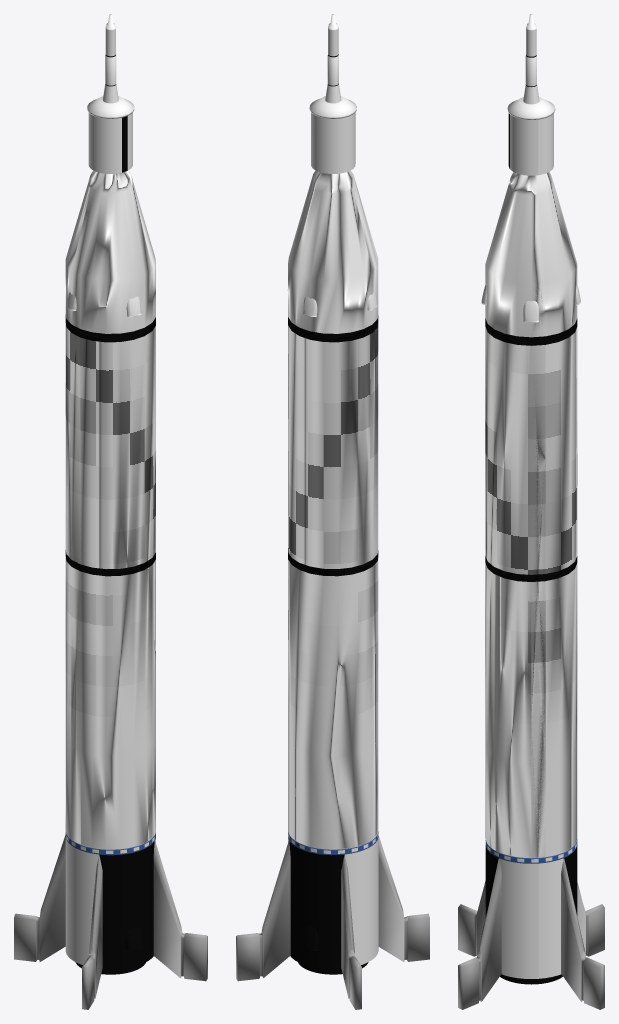
The model's file is rocket-jupiter-c.glb.
3 views of the same model, side by side, from view 1: azimuth 30°, elevation 25°; view 2: azimuth 150°, elevation 25°; view 3: azimuth 270°, elevation 25° (orthographic).
Visible parts, largest first — view 1: pCylinder1, jupiterc_9, jupiterc_8, pCube3 jup, pCylinder2, jupiterc_7, pCylinder3; view 2: pCylinder1, jupiterc_9, jupiterc_2, jupiterc_7, pCylinder2, pCube3 jup, pCylinder3; view 3: pCylinder1, jupiterc_9, pCylinder2, jupiterc_2, jupiterc_8, jupiterc_7, pCube3 jup, pCylinder3.
Boxes of the visible parts, x1,y1,x2,y2 form: pCylinder1: [65, 170, 155, 849]; jupiterc_9: [65, 830, 155, 969]; jupiterc_8: [153, 841, 207, 981]; pCube3 jup: [14, 835, 65, 961]; pCylinder2: [87, 96, 134, 173]; jupiterc_7: [82, 855, 102, 1009]; pCylinder3: [102, 14, 118, 103]; pCylinder1: [288, 170, 378, 849]; jupiterc_9: [288, 829, 378, 969]; jupiterc_2: [236, 841, 290, 981]; jupiterc_7: [378, 836, 429, 961]; pCylinder2: [309, 96, 356, 173]; pCube3 jup: [341, 855, 361, 1009]; pCylinder3: [325, 14, 341, 103]; pCylinder1: [485, 172, 577, 857]; jupiterc_9: [485, 839, 577, 978]; pCylinder2: [507, 97, 555, 175]; jupiterc_2: [561, 858, 604, 1009]; jupiterc_8: [458, 858, 501, 1009]; jupiterc_7: [458, 881, 485, 956]; pCube3 jup: [577, 882, 604, 956]; pCylinder3: [523, 14, 539, 104].
Bounding box in the file's own units: 2.41 × 17.47 × 2.41.
Materials: 7 (2 with a texture image).
